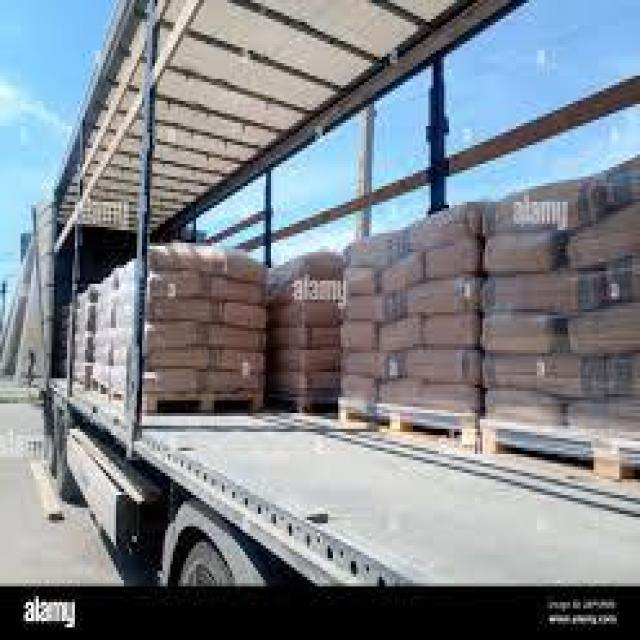gunny_bag: (482, 179, 589, 237), (480, 269, 604, 312), (567, 202, 637, 269), (568, 302, 640, 357), (484, 226, 561, 275), (409, 204, 481, 252), (482, 314, 563, 356), (379, 380, 482, 413), (485, 386, 563, 428), (407, 277, 481, 315), (406, 349, 481, 386), (426, 238, 484, 279), (146, 244, 224, 274), (344, 232, 407, 267), (568, 397, 638, 428), (483, 354, 542, 390), (270, 300, 340, 327), (423, 315, 480, 348), (149, 269, 209, 299), (272, 346, 336, 374), (381, 253, 423, 293), (379, 315, 422, 353), (146, 321, 202, 349), (346, 352, 404, 378), (271, 327, 339, 349), (150, 347, 209, 371), (208, 325, 264, 350), (144, 369, 198, 394), (271, 372, 338, 392), (154, 298, 212, 321), (210, 275, 260, 301), (211, 349, 265, 373), (203, 371, 264, 392), (225, 254, 269, 283), (347, 296, 392, 322), (223, 303, 266, 330), (343, 320, 378, 352), (345, 266, 378, 296), (342, 376, 378, 400)
